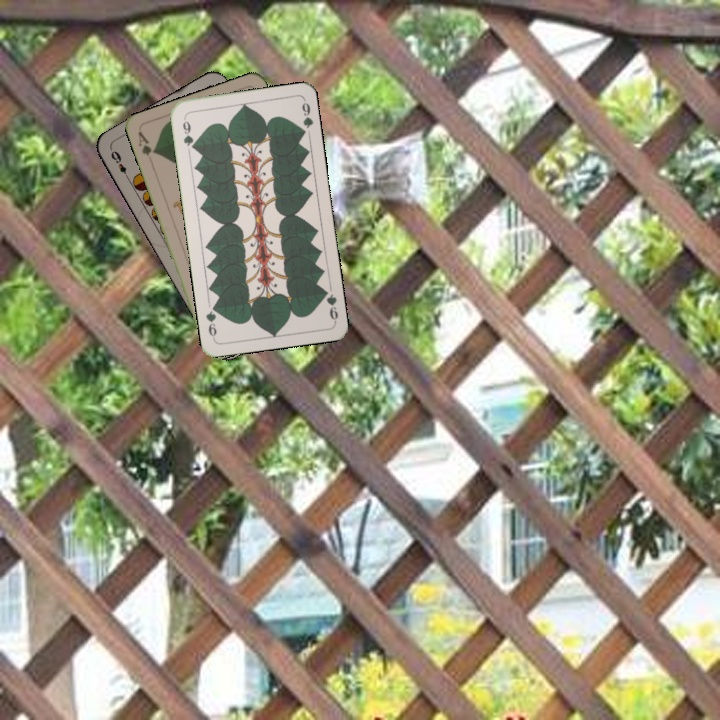E9: (107, 147, 132, 183)
G9: (318, 285, 341, 324), (179, 113, 197, 152)
GA: (134, 127, 158, 158)
